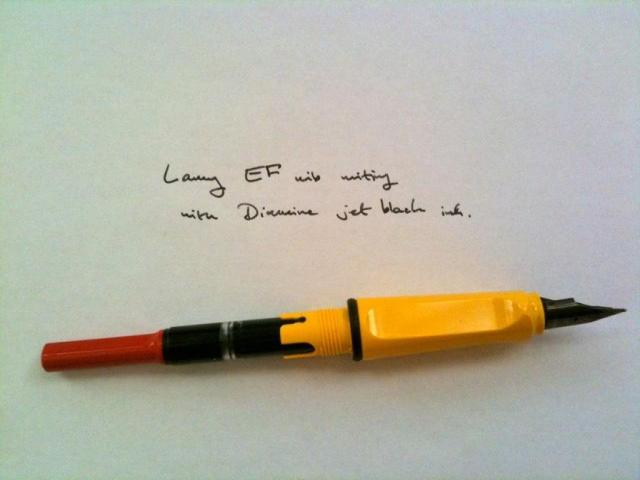PEN: (20, 276, 640, 385)
